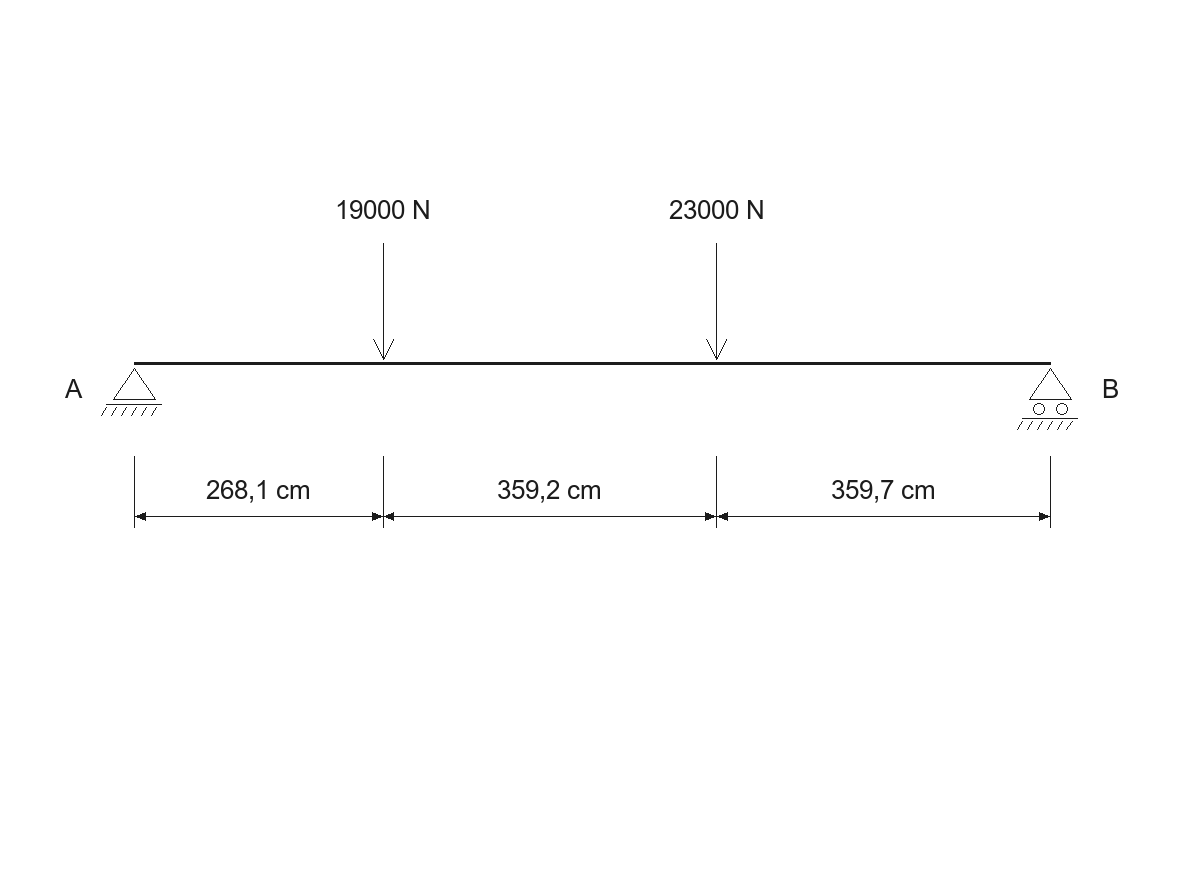pin_support: (101, 368, 162, 416)
point_load: (373, 243, 394, 360), (706, 243, 727, 360)
roller_support: (1017, 368, 1078, 430)
